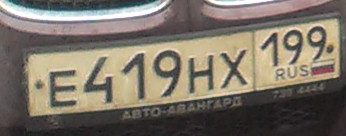character: (82, 51, 117, 106), (149, 46, 184, 99), (117, 47, 149, 101), (217, 47, 251, 91), (47, 67, 81, 109), (186, 51, 216, 96), (257, 29, 280, 69), (281, 27, 304, 66), (306, 24, 328, 62)
